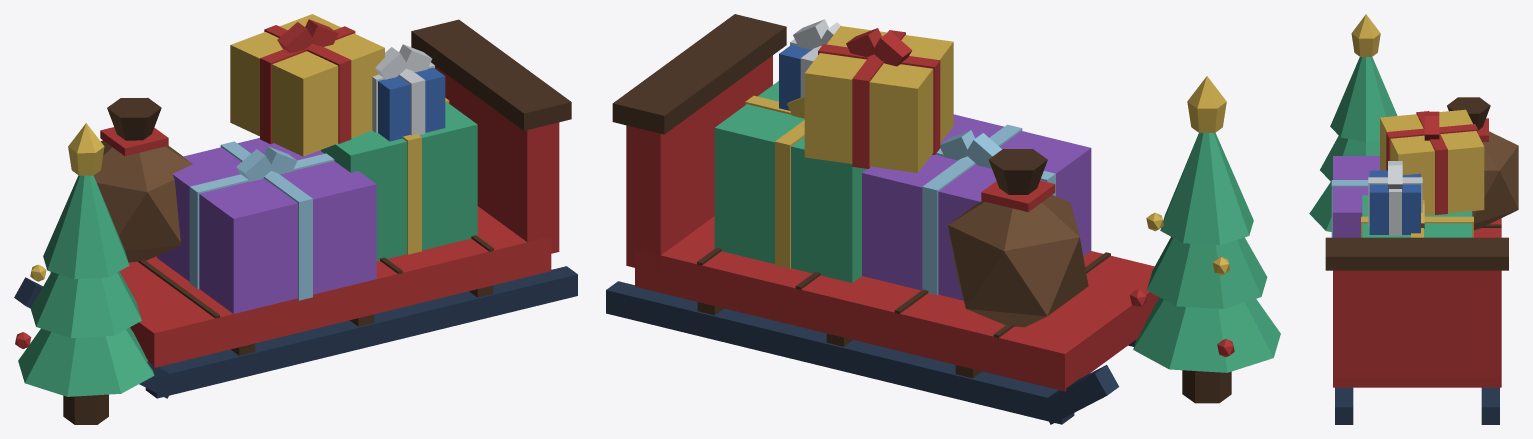
Rendered from Decor_IcePalace_Sled.fbx.
3 renders of one model, left to right at view 1: azimuth 30°, elevation 25°; view 2: azimuth 150°, elevation 25°; view 3: azimuth 270°, elevation 25°, orthographic. The views are drawn at different scales.
Parts seen in each view (by area): view 1: Sled_Body; view 2: Sled_Body; view 3: Sled_Body.
Part boxes in pixels (<box>): Sled_Body: <box>14,14,577,424</box>; Sled_Body: <box>606,14,1280,424</box>; Sled_Body: <box>1309,14,1518,424</box>.
Size of the model in its own units: 12.7 by 6.8 by 5.3.
